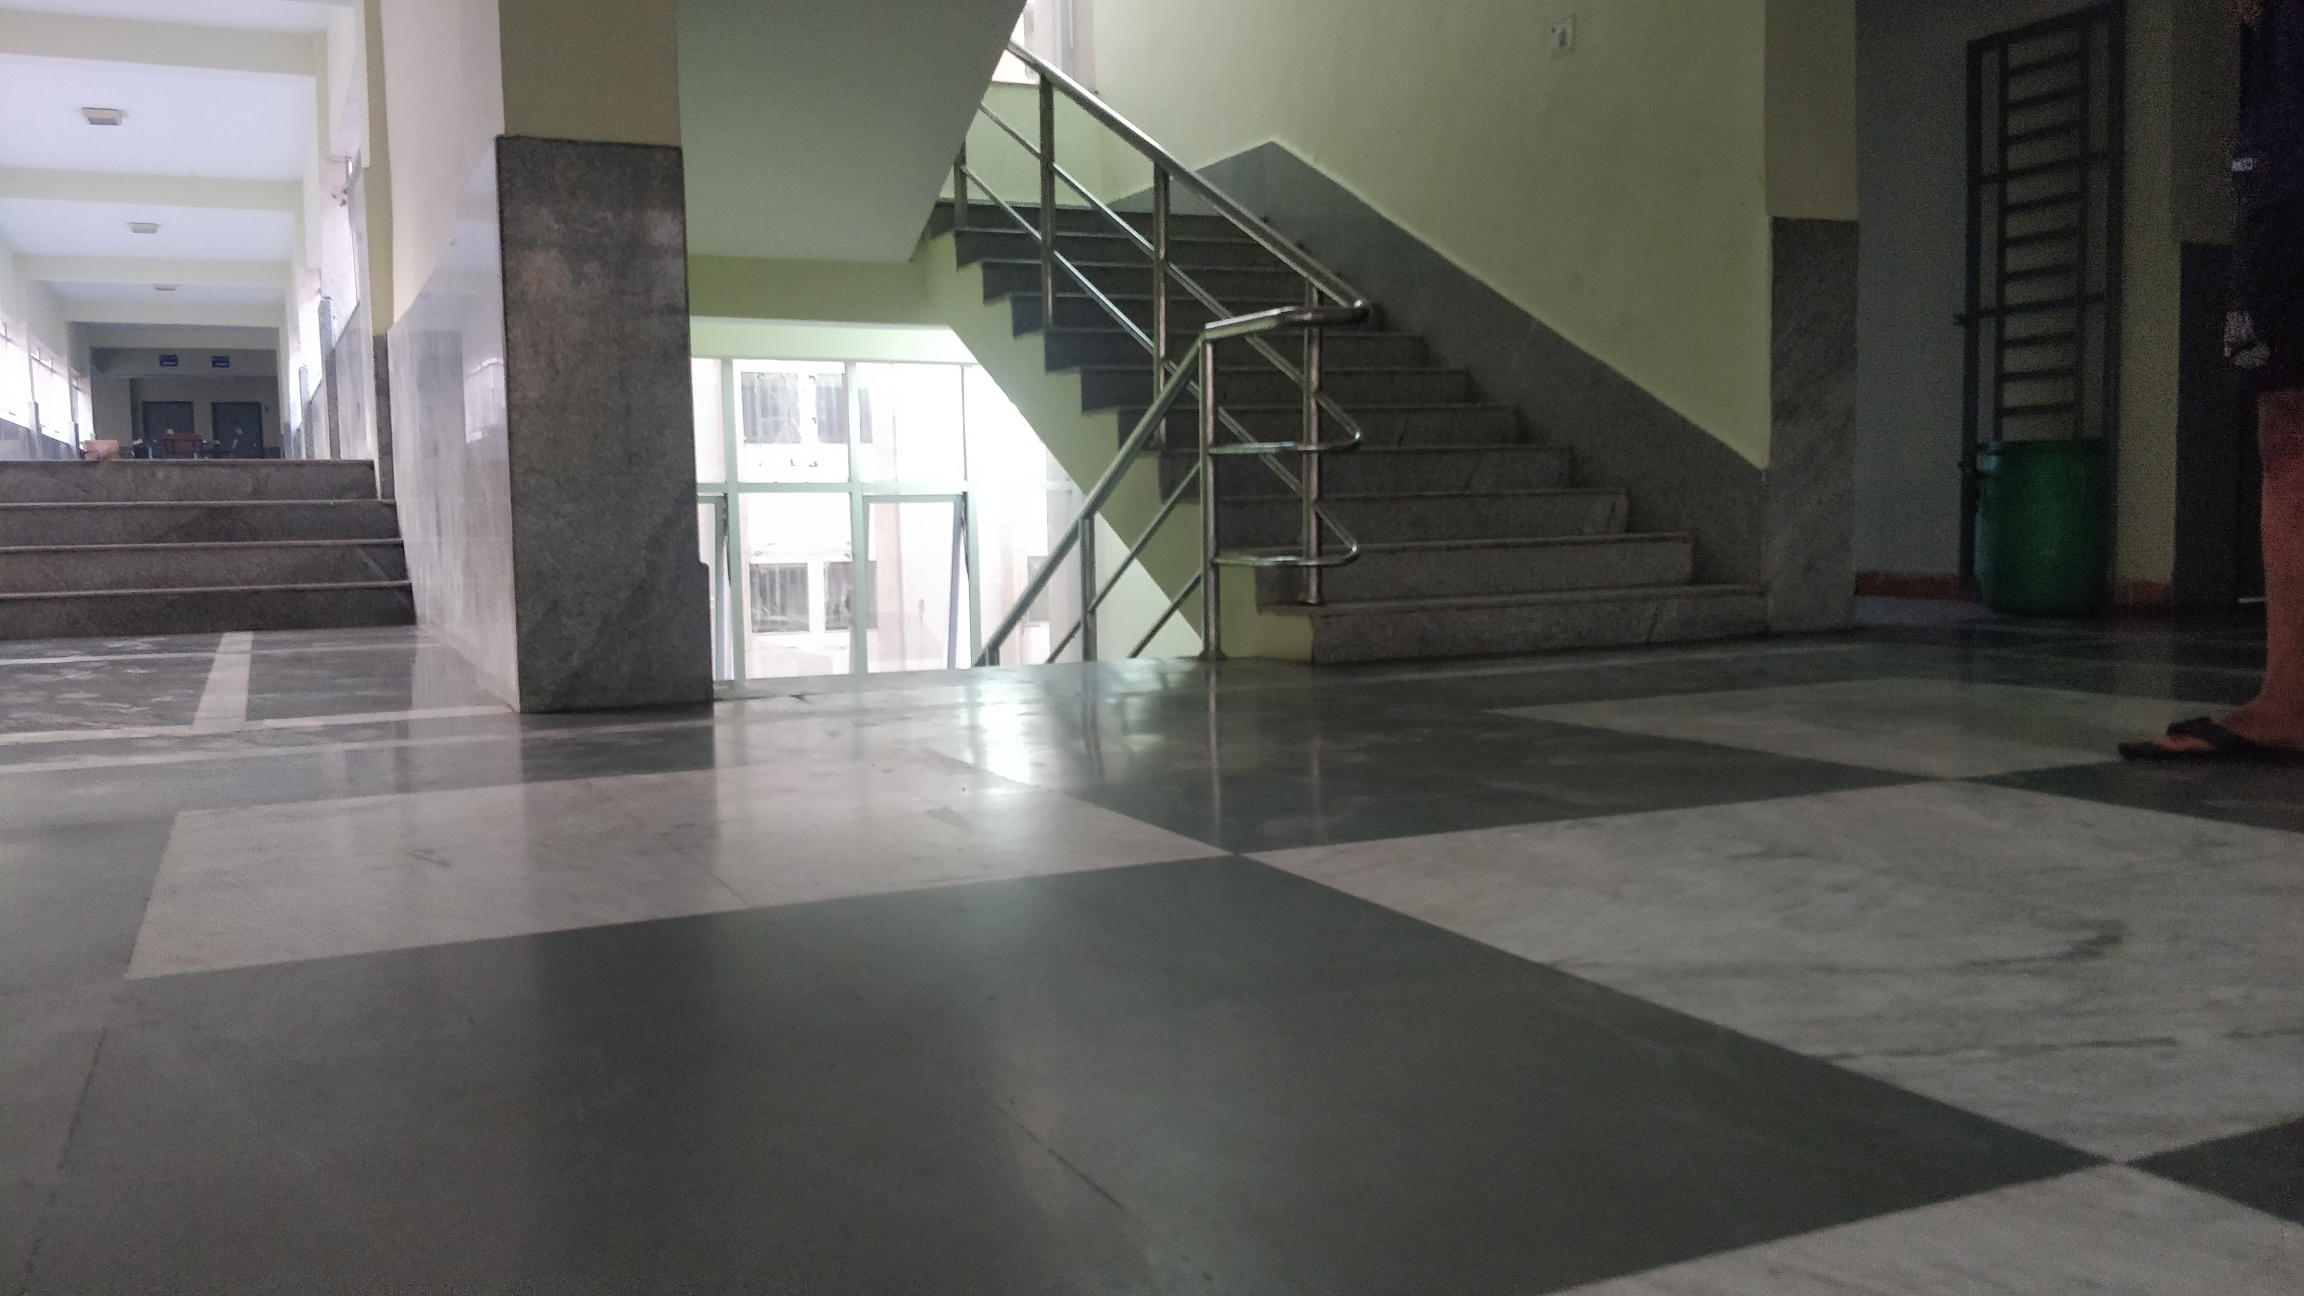stairs_up: (967, 188, 1734, 642)
